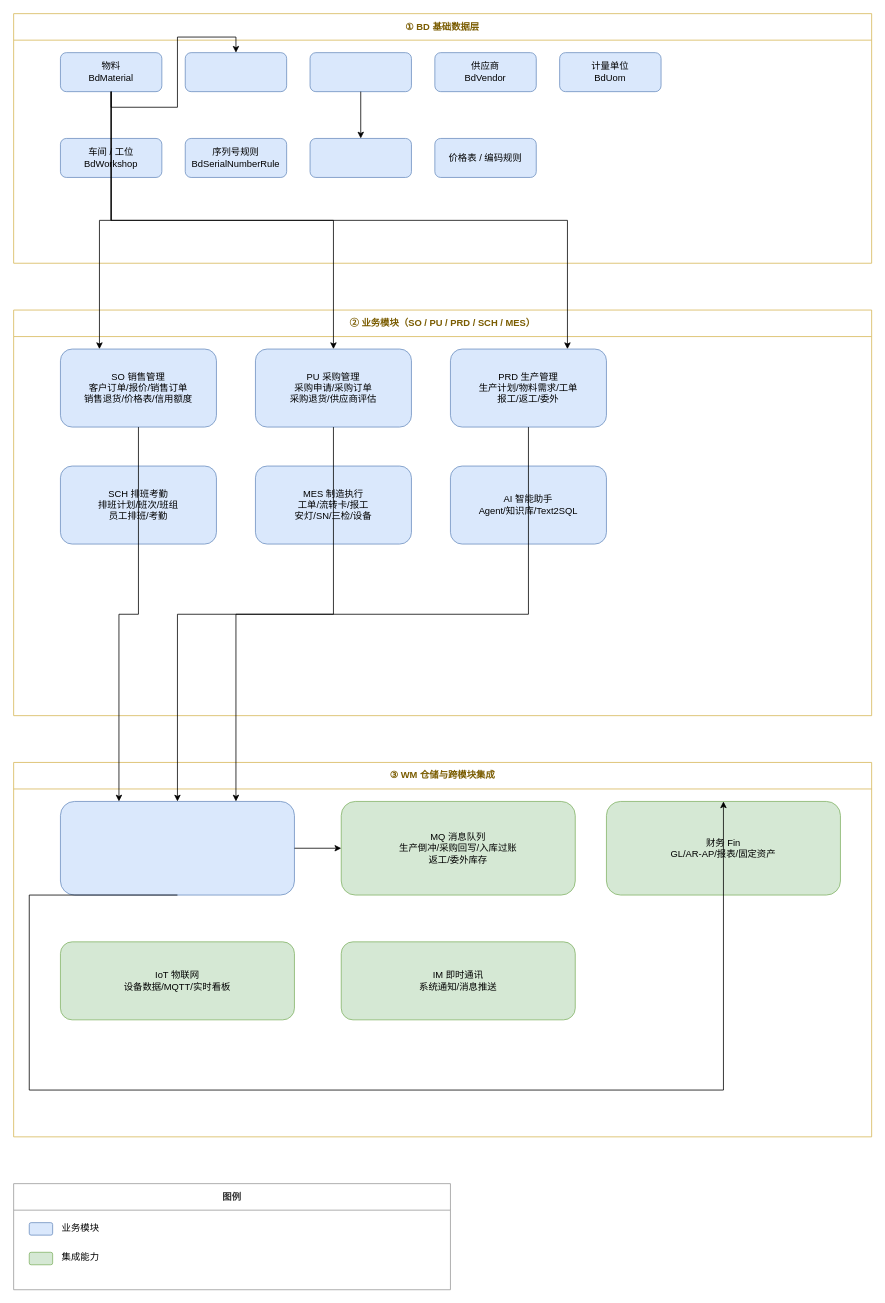
This 885x1303 diagram has some shape labels left out. Here are the shapes that lost their labels. From the top down, the centre of each, then its label:
At point 235,72: "BOM （多版本）".
At point 360,72: "客户 BdClient".
At point 360,157: "客户信用 BdClientCredit".
At point 177,848: "WM 仓储管理 库存（乐观锁）/ 12种策略 入库/出库/调拨/盘点 批次/序列号/追溯/预警".
